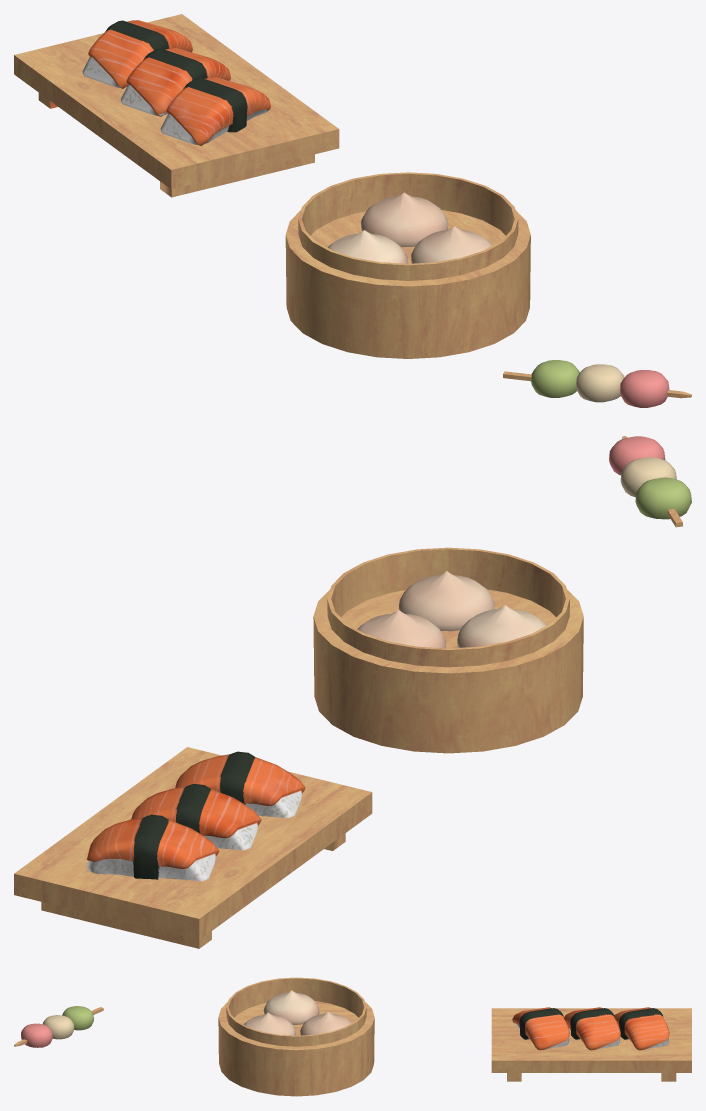
The model's file is food.fbx.
The picture shows the model from 3 angles, top to bottom: view 1: azimuth 30°, elevation 25°; view 2: azimuth 150°, elevation 25°; view 3: azimuth 270°, elevation 25°; orthographic projection. The views are drawn at different scales.
Parts seen in each view (by area): view 1: bao, sushi, dango; view 2: bao, sushi, dango; view 3: bao, sushi, dango.
Boxes of the visible parts, <box> form: bao: <box>285,172,530,358</box>; sushi: <box>14,14,339,197</box>; dango: <box>503,360,691,407</box>; bao: <box>313,547,583,753</box>; sushi: <box>14,747,372,948</box>; dango: <box>609,436,691,527</box>; bao: <box>218,977,374,1096</box>; sushi: <box>491,1007,691,1081</box>; dango: <box>14,1006,103,1047</box>.
Bounding box in the file's own units: 3.6 × 1.49 × 15.59.
